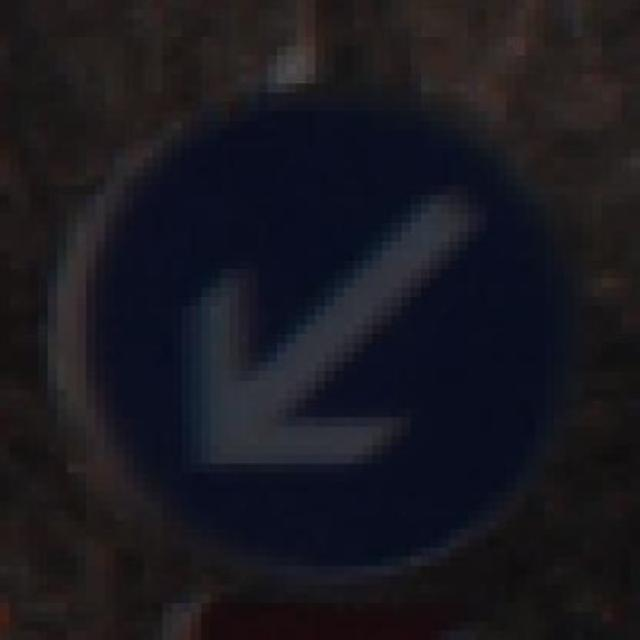Keep-Left: (47, 73, 611, 584)
